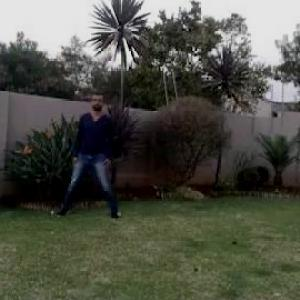follow: (76, 82, 116, 214)
